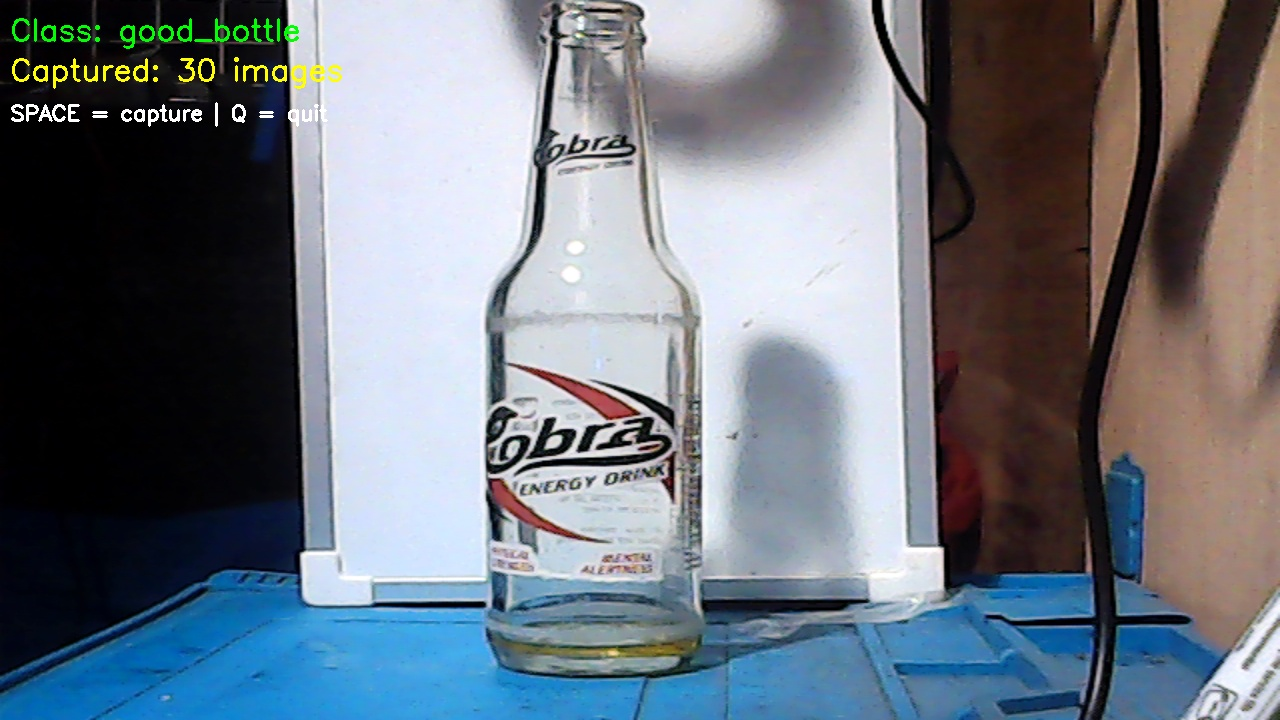good_bottle: (482, 1, 711, 668)
